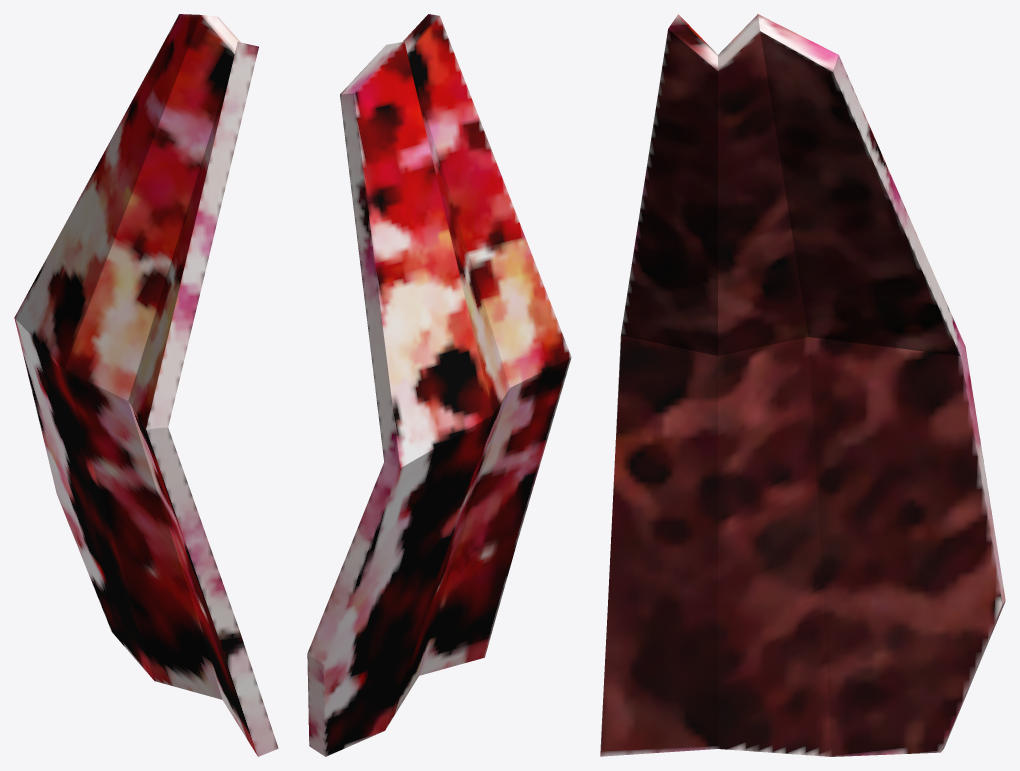
Rendered from TornSkull7.fbx.
The picture shows the model from 3 angles, left to right: view 1: azimuth 30°, elevation 25°; view 2: azimuth 150°, elevation 25°; view 3: azimuth 270°, elevation 25°; orthographic projection. The views are drawn at different scales.
Parts seen in each view (by area): view 1: TornSkull7; view 2: TornSkull7; view 3: TornSkull7.
Part boxes in pixels (x1,y1,x2,y2): TornSkull7: (14,14,278,756); TornSkull7: (307,14,571,756); TornSkull7: (600,14,1005,756).
Bounding box in the file's own units: 79.35 × 352 × 173.
